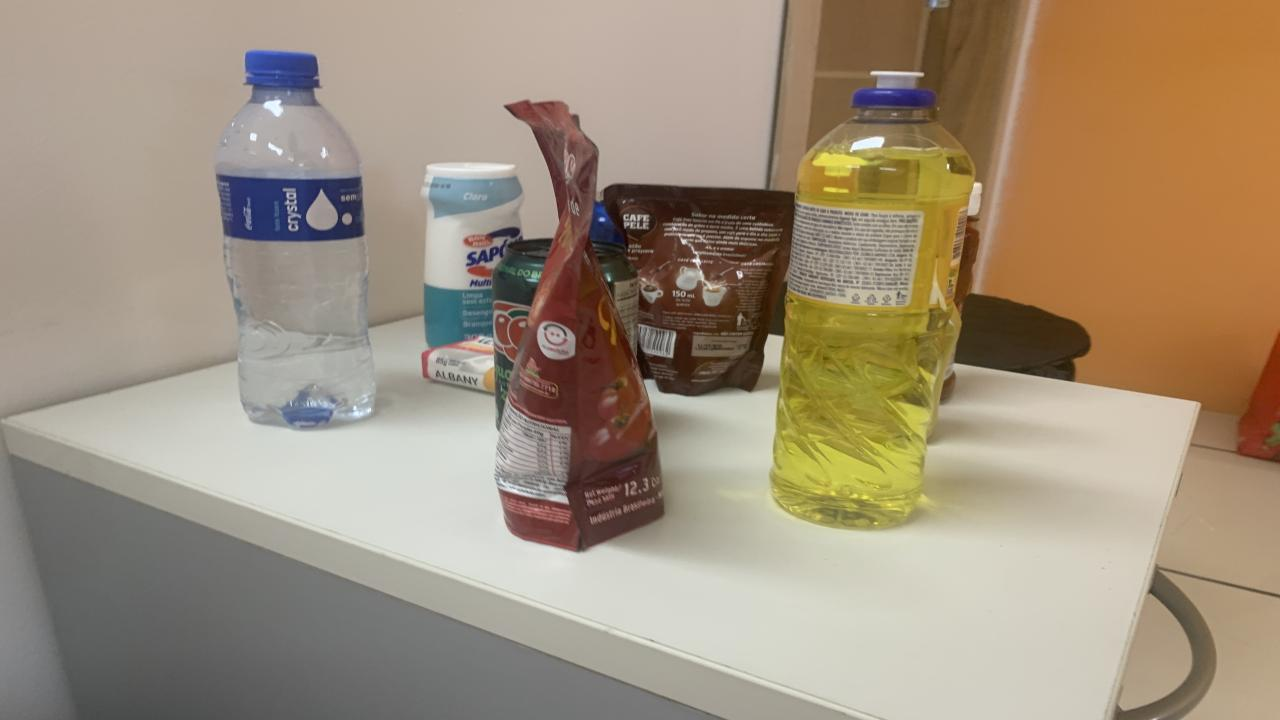Cleaner-Cleanup_Items: (422, 163, 525, 347)
Coffee-Pantry_Items: (602, 184, 795, 396)
Detergent-Cleanup_Items: (770, 71, 975, 529)
Guarana_Can-Drinks: (492, 238, 552, 420), (592, 242, 638, 349)
Soap-Cleanup_Items: (422, 336, 495, 392)
Tomato_Sauce-Pantry_Items: (495, 101, 665, 551)
Water_Bottle-Drinks: (215, 51, 375, 428)
